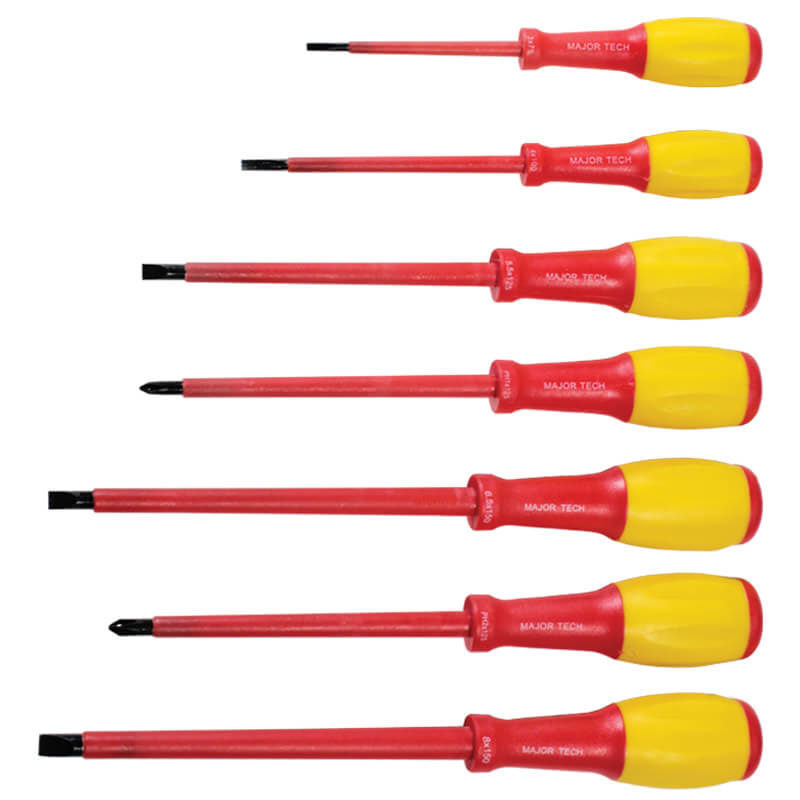screwdriver: (34, 687, 765, 791), (47, 457, 767, 551), (106, 570, 765, 667), (136, 346, 765, 432), (141, 234, 765, 320), (238, 130, 775, 200), (306, 17, 768, 90)
